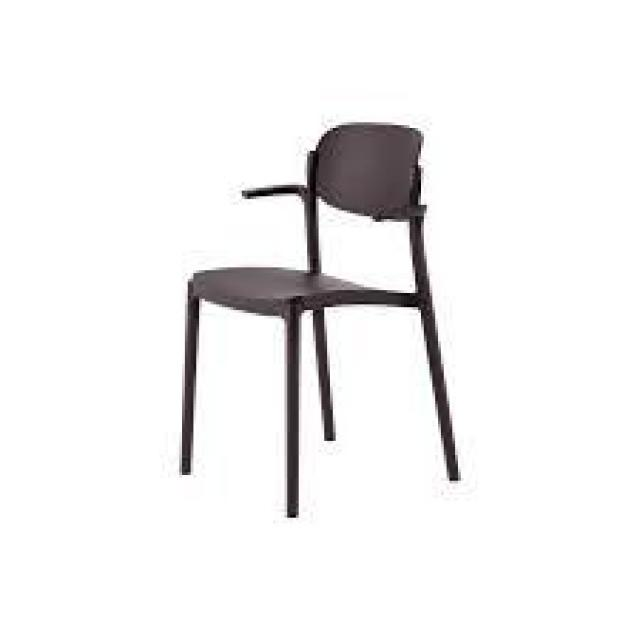chair: (122, 97, 498, 534)
